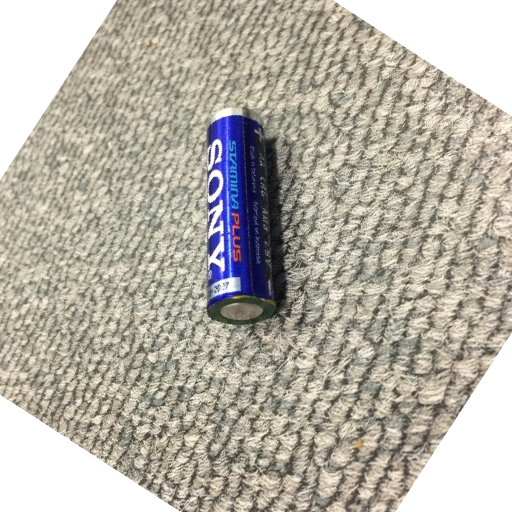Battery_0: (194, 92, 303, 339)
